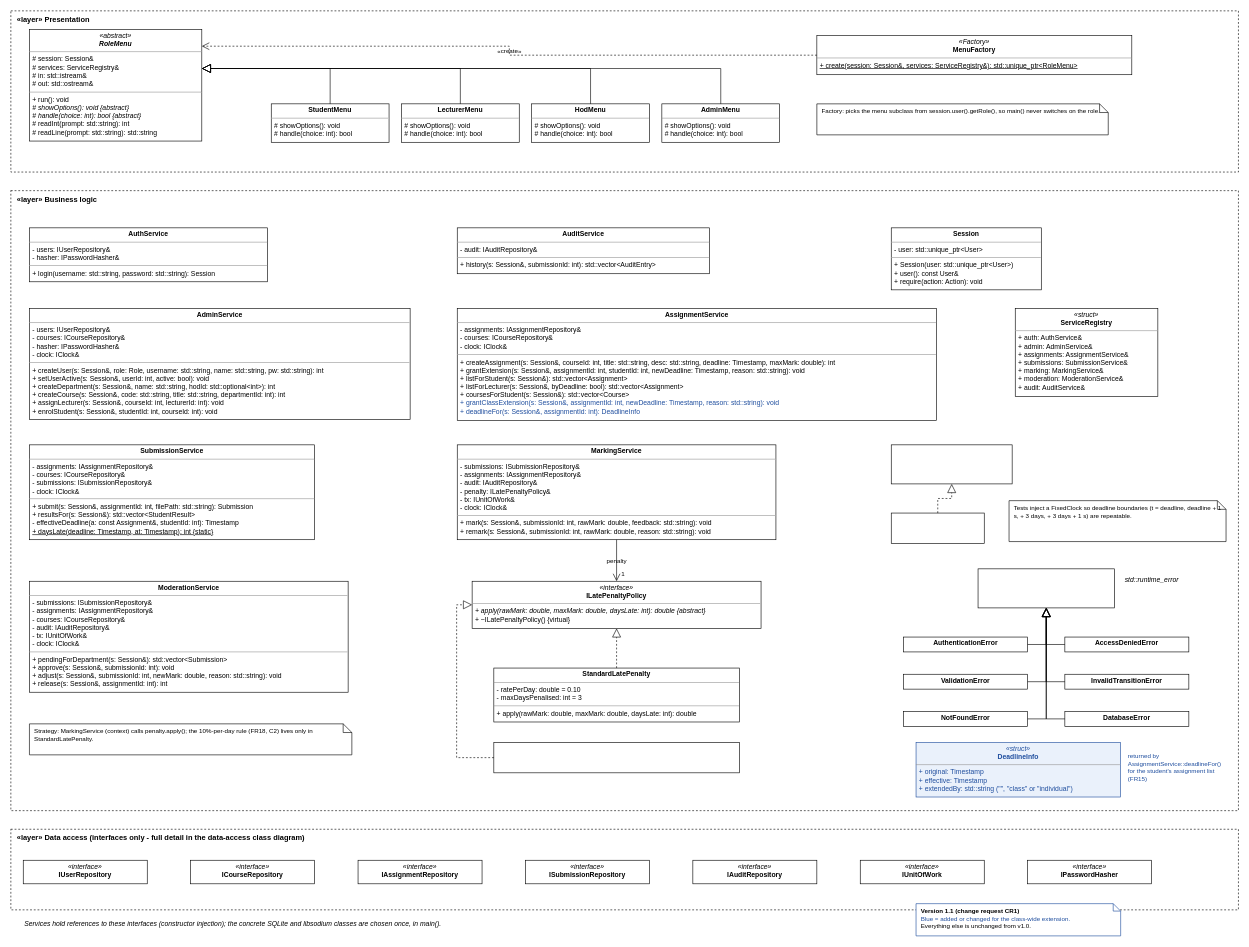
The diagram is 1249 pixels wide and 947 high, and some of its shapes have lost their labels. The centre of each missing label's shape, as x and y in pixels:
"NoLatePenalty + apply(rawMark: double, maxMark: double, daysLate: int): double" goes at [616,757].
"SystemClock + now(): Timestamp" goes at [937,527].
"«exception» LmsError + LmsError(message: std::string)" goes at [1045,588].
"«interface» IClock + now(): Timestamp {abstract}" goes at [951,464].
